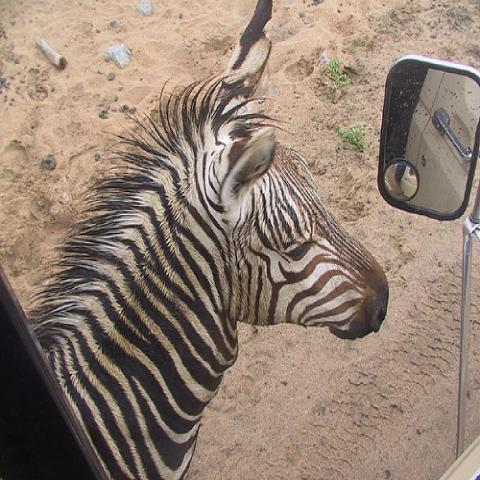car: (374, 54, 479, 453)
